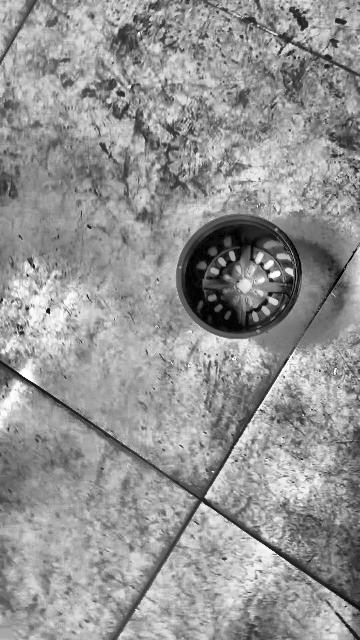pot: (176, 215, 301, 338)
